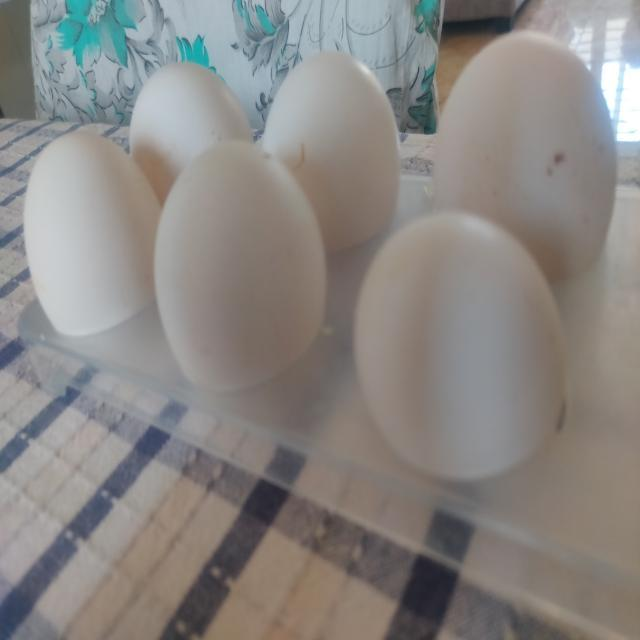Egg: (355, 211, 567, 480), (435, 30, 618, 281), (154, 140, 326, 391), (262, 50, 401, 252), (23, 131, 160, 335), (129, 61, 253, 205)
